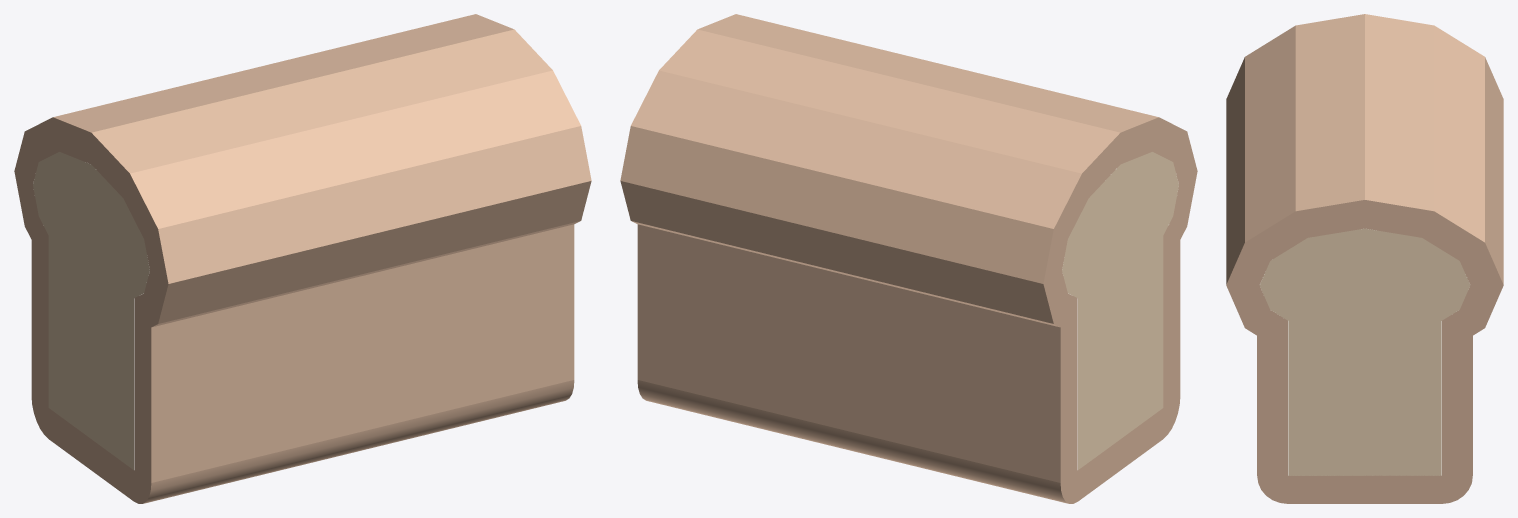
Rendered from loaf.glb.
3 renders of one model, left to right at view 1: azimuth 30°, elevation 25°; view 2: azimuth 150°, elevation 25°; view 3: azimuth 270°, elevation 25°, orthographic. The views are drawn at different scales.
Parts seen in each view (by area): view 1: loaf; view 2: loaf; view 3: loaf.
Boxes of the visible parts, x1,y1,x2,y2 form: loaf: (14,14,591,503); loaf: (620,14,1197,503); loaf: (1226,14,1503,503).
Bounding box in the file's own units: 0.5797 × 0.4424 × 0.3659.
